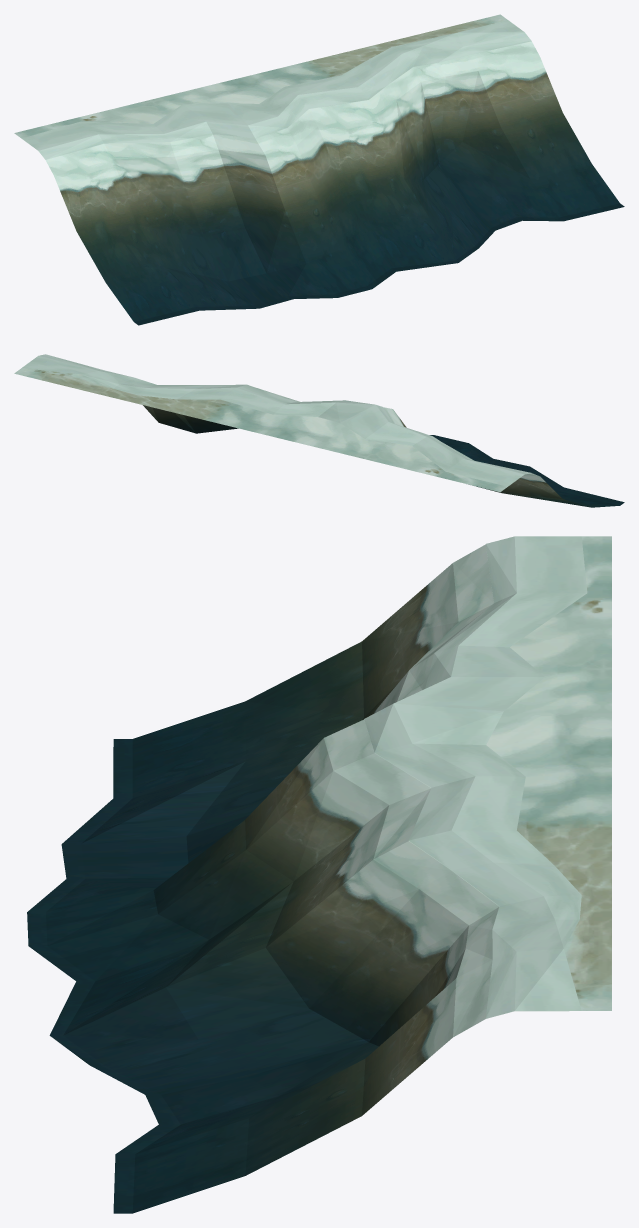
The model's file is tundra_straight_riverbed01.fbx.
The picture shows the model from 3 angles, top to bottom: view 1: azimuth 30°, elevation 25°; view 2: azimuth 150°, elevation 25°; view 3: azimuth 270°, elevation 25°; orthographic projection. The views are drawn at different scales.
Parts seen in each view (by area): view 1: obj3.005; view 2: obj3.005; view 3: obj3.005.
Boxes of the visible parts, bbox=[...] form: obj3.005: bbox=[14, 14, 624, 325]; obj3.005: bbox=[14, 354, 624, 507]; obj3.005: bbox=[27, 536, 611, 1213].
Bounding box in the file's own units: 20 × 4.14 × 10.41.
